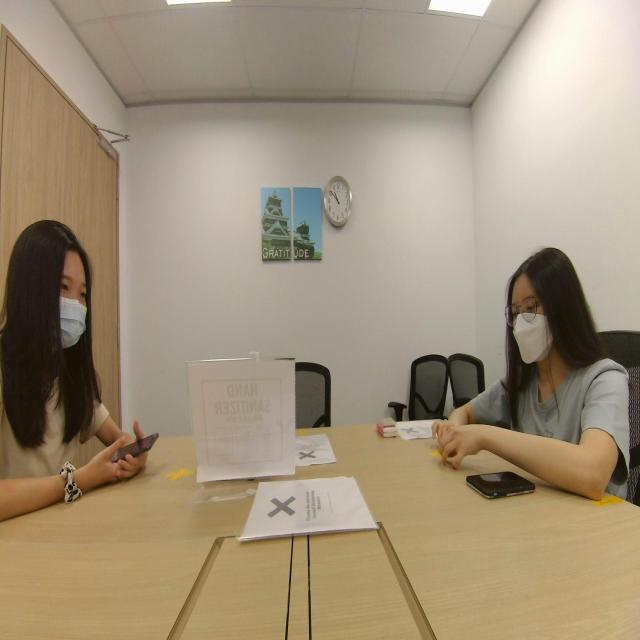obstacle: (464, 209, 636, 472), (5, 190, 113, 477)
